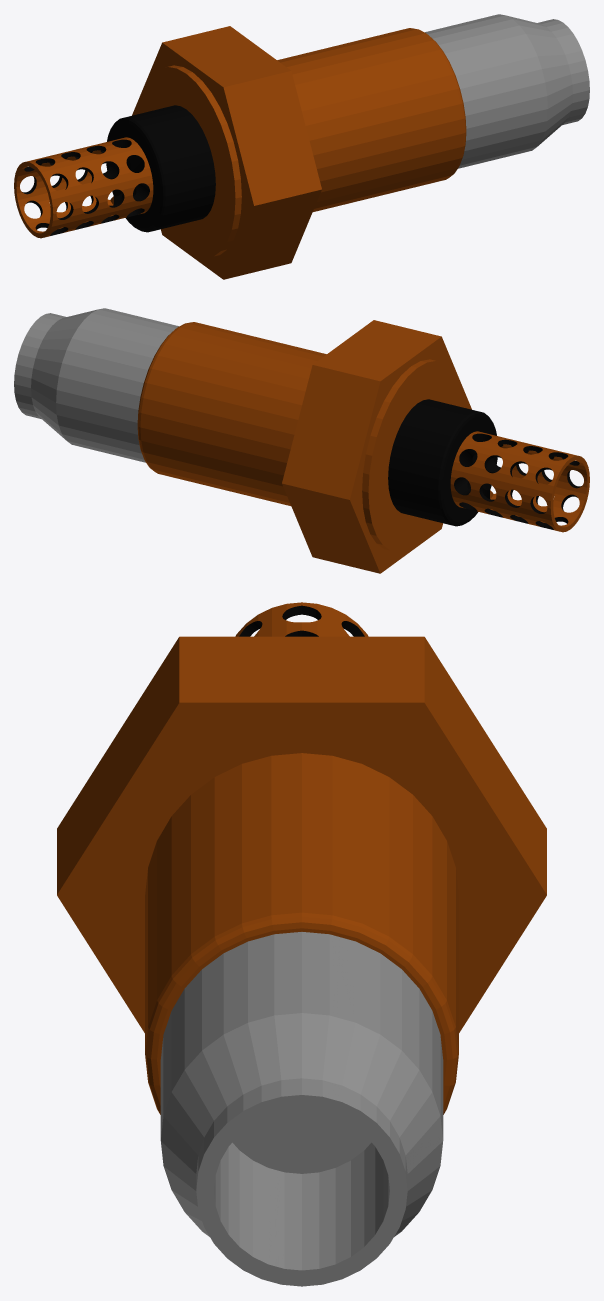
3 renders of one model, top to bottom at view 1: azimuth 30°, elevation 25°; view 2: azimuth 150°, elevation 25°; view 3: azimuth 270°, elevation 25°, orthographic. The views are drawn at different scales.
Visible parts, largest first — view 1: Heated Oxygen; view 2: Heated Oxygen; view 3: Heated Oxygen.
Part boxes in pixels (x1,y1,x2,y2): Heated Oxygen: [14, 14, 589, 279]; Heated Oxygen: [14, 308, 589, 573]; Heated Oxygen: [57, 602, 546, 1286].
Bounding box in the file's own units: 7.8 × 2.71 × 3.12.
